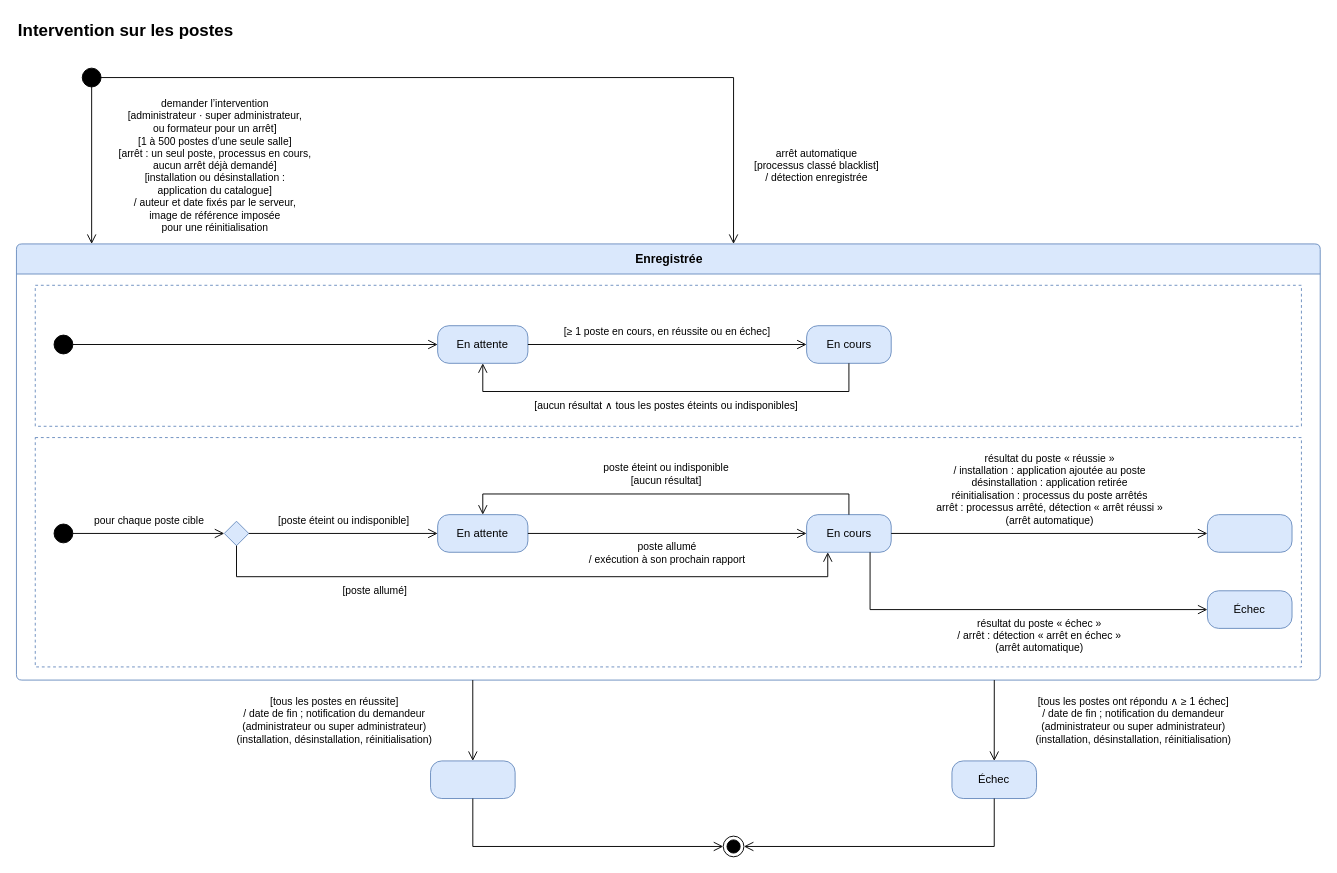
The diagram is 1337 pixels wide and 873 high, and some of its shapes have lost their labels. Each missing label, with the box of its shape:
Réussie: (1206, 514, 1292, 552)
Terminée: (430, 760, 515, 799)
